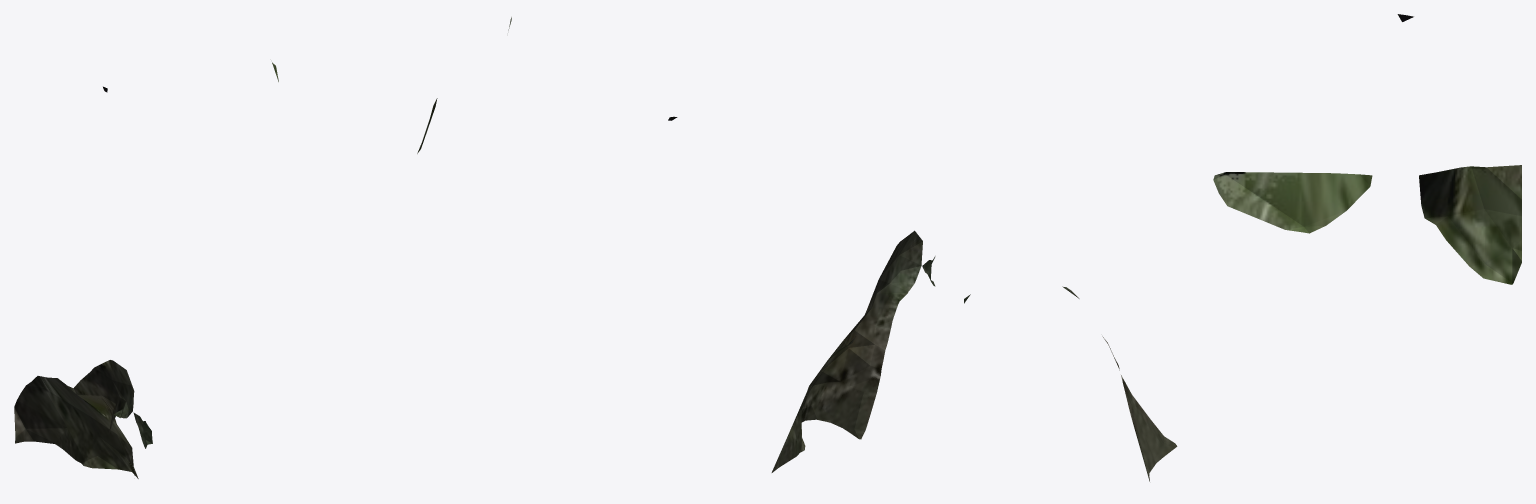
3 views of the same model, side by side, from view 1: azimuth 30°, elevation 25°; view 2: azimuth 150°, elevation 25°; view 3: azimuth 270°, elevation 25° (orthographic). The views are drawn at different scales.
Size of the model in its own units: 5.9 by 5.9 by 5.9.
1 material, 1 textured.
